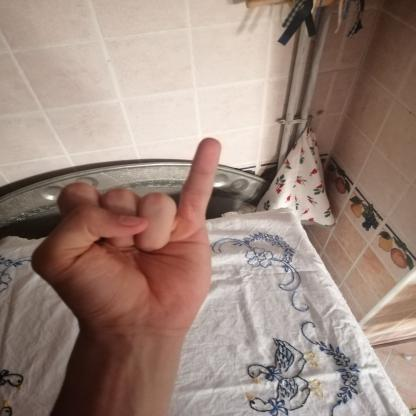MEEM: (17, 123, 244, 352)
